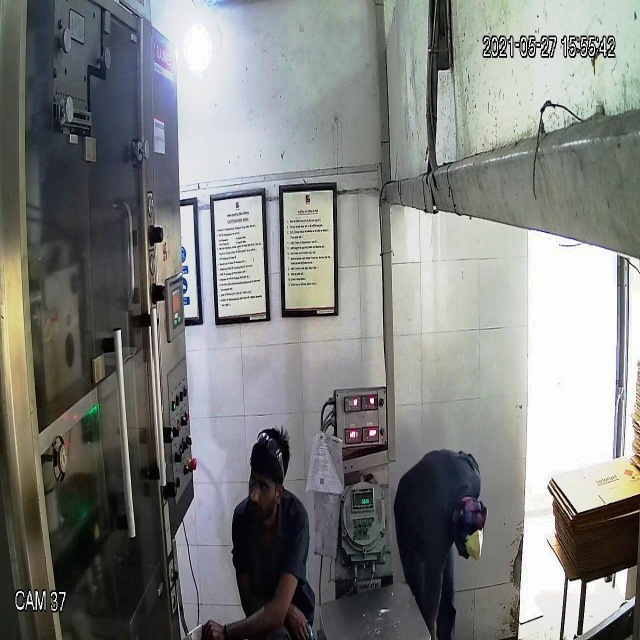Sin_gafas: (246, 469, 282, 498)
